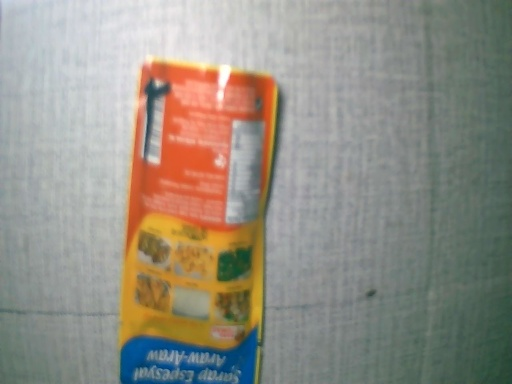plastic: (115, 60, 281, 384)
